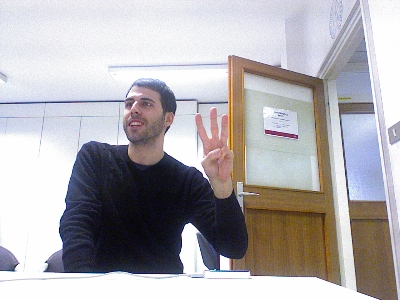三分: (193, 105, 235, 181)
